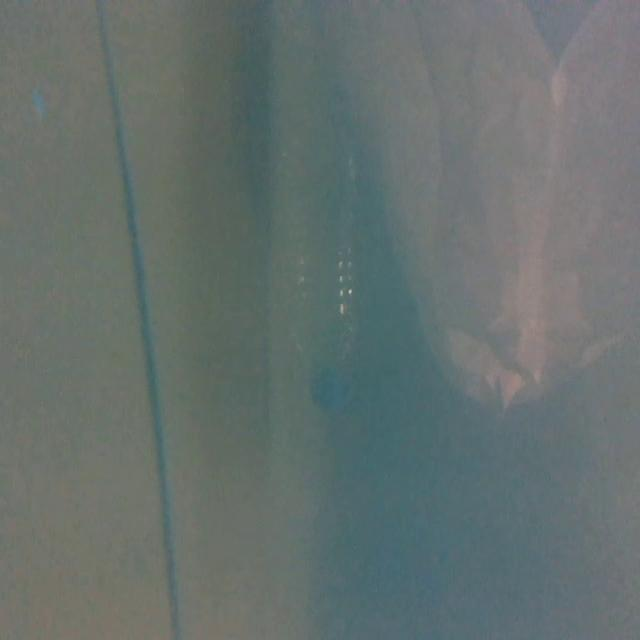plastic bags: (350, 0, 640, 408)
plastic bottle: (293, 156, 363, 416)
